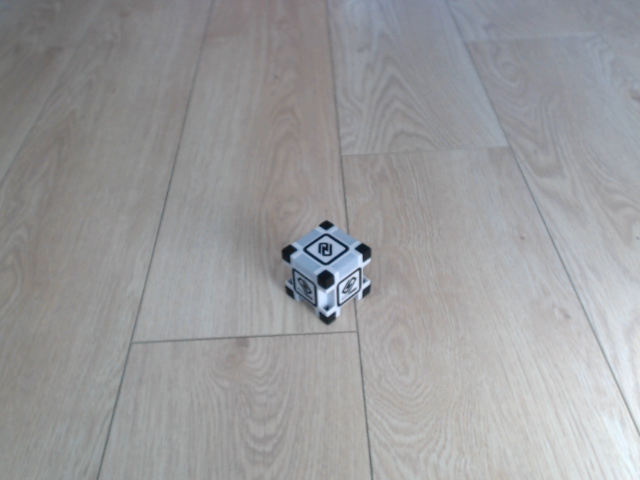block: (281, 217, 375, 327)
